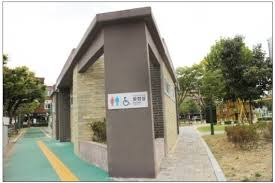guide_blocks: (38, 142, 76, 180)
